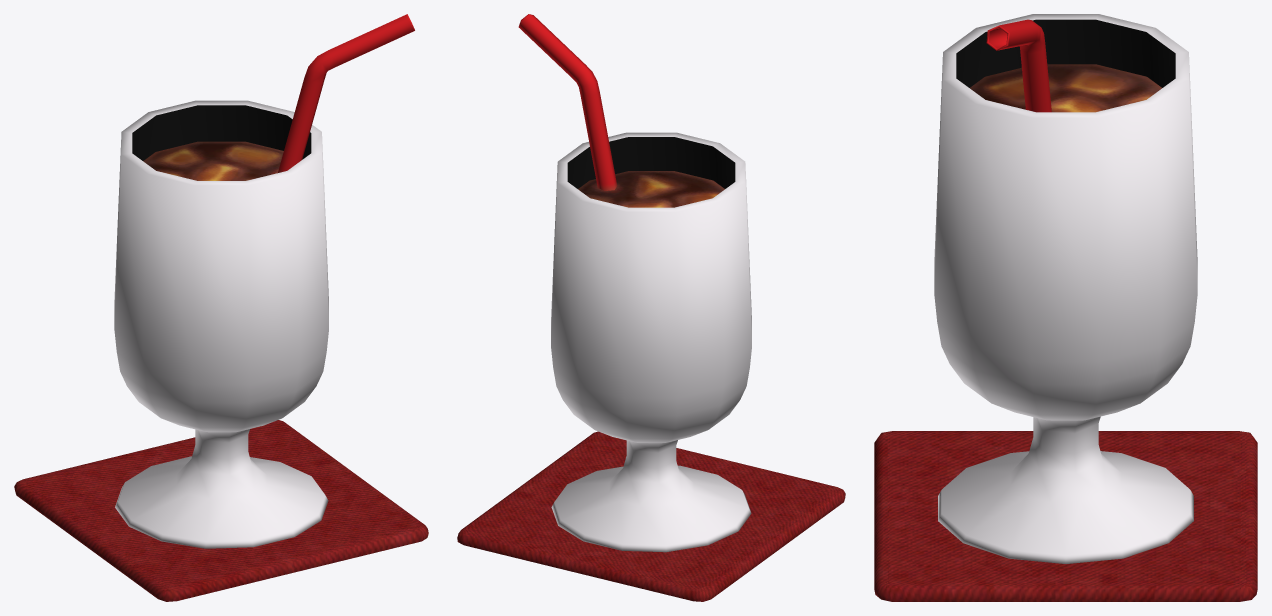
Rendered from GlassCoffee.glb.
3 views of the same model, side by side, from view 1: azimuth 30°, elevation 25°; view 2: azimuth 150°, elevation 25°; view 3: azimuth 270°, elevation 25° (orthographic). The views are drawn at different scales.
Parts seen in each view (by area): view 1: Glass__mGlass, Coaster_low__mCoaster, Straw__mBody, GlassR_Foot__mGlassR; view 2: Glass__mGlass, Coaster_low__mCoaster, Straw__mBody, GlassR_Foot__mGlassR; view 3: Glass__mGlass, Coaster_low__mCoaster, Straw__mBody, GlassR_Foot__mGlassR.
Boxes of the visible parts, x1=… form: Glass__mGlass: x1=114, y1=100, x2=328, y2=548; Coaster_low__mCoaster: x1=14, y1=420, x2=428, y2=601; Straw__mBody: x1=143, y1=14, x2=414, y2=180; GlassR_Foot__mGlassR: x1=132, y1=105, x2=311, y2=160; Glass__mGlass: x1=551, y1=132, x2=751, y2=552; Coaster_low__mCoaster: x1=457, y1=431, x2=845, y2=601; Straw__mBody: x1=518, y1=14, x2=724, y2=207; GlassR_Foot__mGlassR: x1=567, y1=137, x2=735, y2=188; Glass__mGlass: x1=934, y1=14, x2=1197, y2=563; Coaster_low__mCoaster: x1=874, y1=431, x2=1257, y2=601; Straw__mBody: x1=970, y1=19, x2=1161, y2=112; GlassR_Foot__mGlassR: x1=956, y1=19, x2=1175, y2=87.
Size of the model in its own units: 3.14 by 4.81 by 2.83.
Materials: 4 (4 with a texture image).
